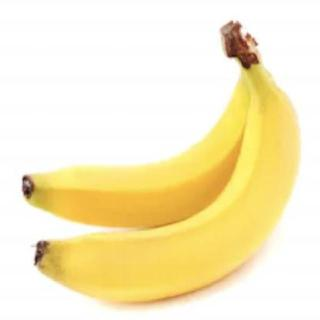banana: (29, 91, 304, 307), (20, 81, 276, 231)
